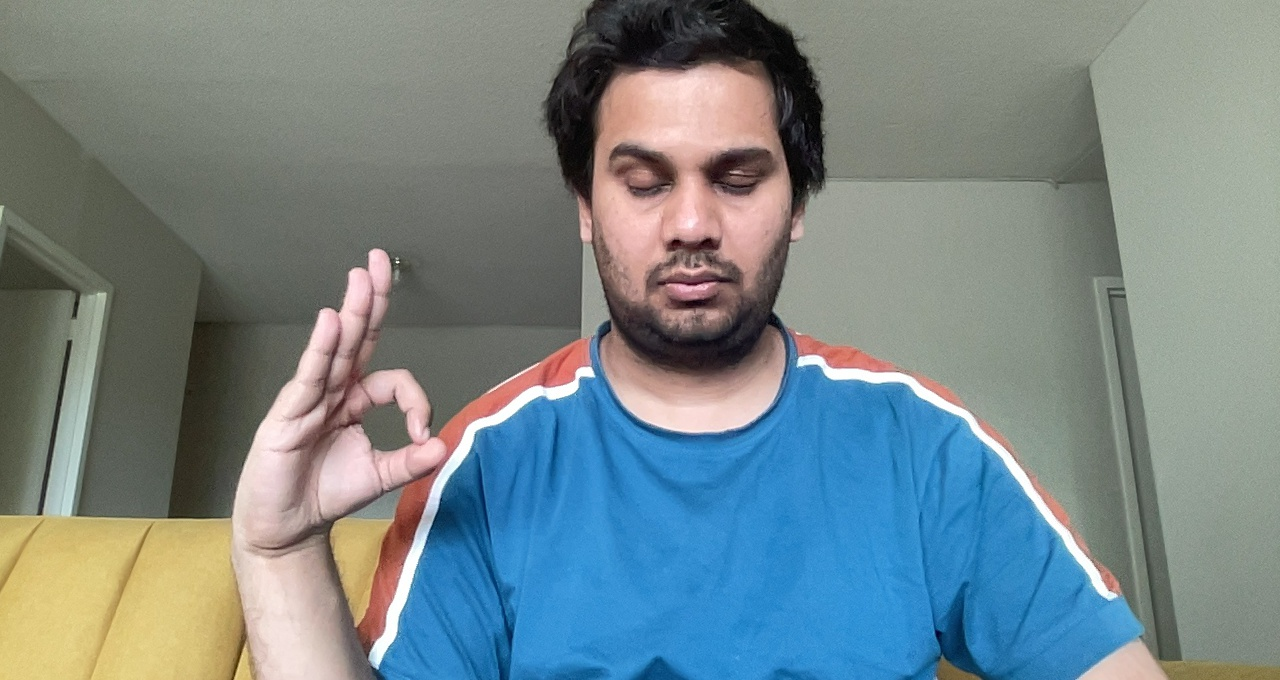ok: (238, 242, 451, 555)
